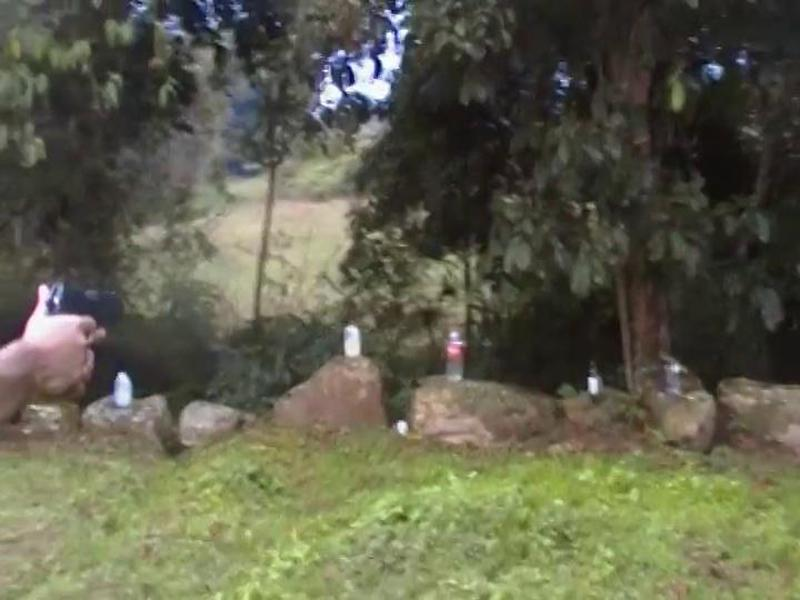Pistola: (21, 257, 151, 356)
